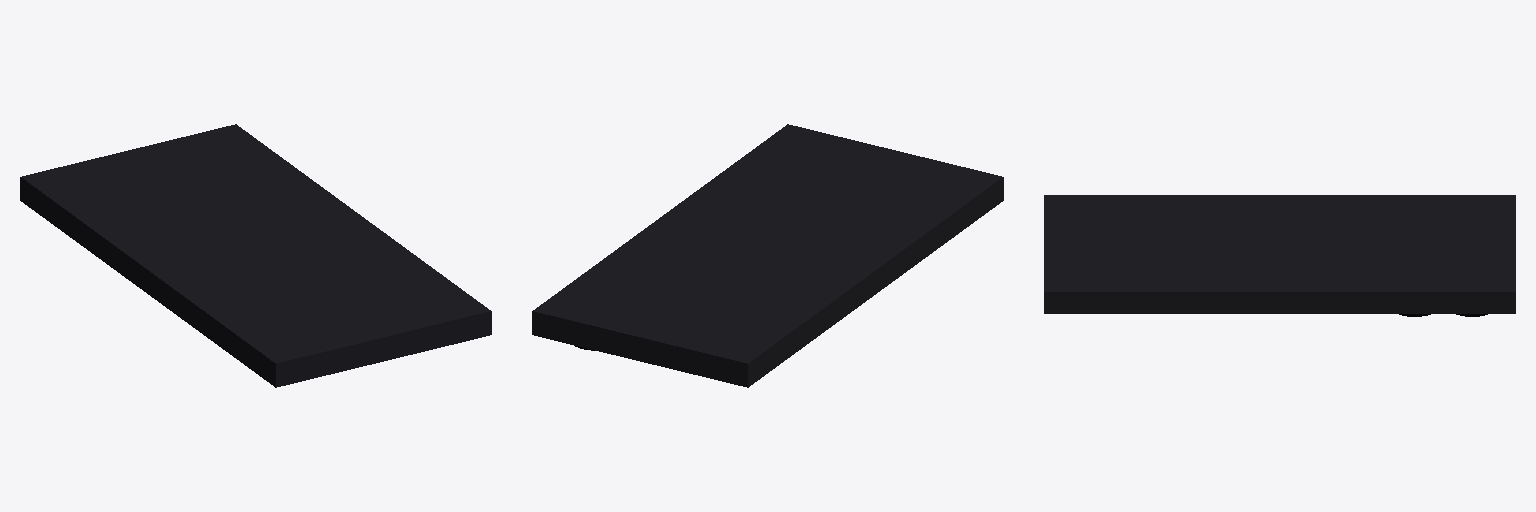
The robot description file, URDF, robot "iphone_13_pro":
<?xml version="1.0"?>
<!-- iPhone 13 Pro: generated by imuninn from Apple's dimensional drawings (iphone-frames dataset). Frames: device = display centre on the front glass (x right, y top, z out of the screen); cam_*_optical = OpenCV axes. Geometry and mass are approximate. -->
<robot name="iphone_13_pro">
  <material name="iphone_body">
    <color rgba="0.15 0.15 0.17 1" />
  </material>
  <material name="iphone_lens">
    <color rgba="0.05 0.05 0.06 1" />
  </material>
  <link name="device">
    <visual name="body">
      <origin xyz="0 0 -0.003825" rpy="0 0 0" />
      <geometry>
        <box size="0.07152 0.14671 0.00765" />
      </geometry>
      <material name="iphone_body" />
    </visual>
    <collision name="body">
      <origin xyz="0 0 -0.003825" rpy="0 0 0" />
      <geometry>
        <box size="0.07152 0.14671 0.00765" />
      </geometry>
    </collision>
    <visual name="lens_telephoto">
      <origin xyz="0.02233 0.059925 -0.00945" rpy="0 0 0" />
      <geometry>
        <cylinder radius="0.007765" length="0.0036" />
      </geometry>
      <material name="iphone_lens" />
    </visual>
    <visual name="lens_main">
      <origin xyz="0.02233 0.042005 -0.00945" rpy="0 0 0" />
      <geometry>
        <cylinder radius="0.007765" length="0.0036" />
      </geometry>
      <material name="iphone_lens" />
    </visual>
    <visual name="lens_ultra_wide">
      <origin xyz="0.00568 0.050965 -0.00945" rpy="0 0 0" />
      <geometry>
        <cylinder radius="0.0079" length="0.0036" />
      </geometry>
      <material name="iphone_lens" />
    </visual>
    <inertial>
      <origin xyz="0 0 -0.003825" rpy="0 0 0" />
      <mass value="0.185" />
      <inertia ixx="0.000332728" ixy="0" ixz="0" iyy="7.97602e-05" iyz="0" izz="0.000410684" />
    </inertial>
  </link>
  <link name="magsafe" />
  <joint name="device_to_magsafe" type="fixed">
    <parent link="device" />
    <child link="magsafe" />
    <origin xyz="0 5e-06 -0.00765" rpy="3.14159265 0 3.14159265" />
  </joint>
  <link name="cam_telephoto_optical" />
  <joint name="device_to_cam_telephoto_optical" type="fixed">
    <parent link="device" />
    <child link="cam_telephoto_optical" />
    <origin xyz="0.02233 0.059925 -0.01125" rpy="3.14159265 0 -1.57079633" />
  </joint>
  <link name="cam_main_optical" />
  <joint name="device_to_cam_main_optical" type="fixed">
    <parent link="device" />
    <child link="cam_main_optical" />
    <origin xyz="0.02233 0.042005 -0.01125" rpy="3.14159265 0 -1.57079633" />
  </joint>
  <link name="cam_ultra_wide_optical" />
  <joint name="device_to_cam_ultra_wide_optical" type="fixed">
    <parent link="device" />
    <child link="cam_ultra_wide_optical" />
    <origin xyz="0.00568 0.050965 -0.01125" rpy="3.14159265 0 -1.57079633" />
  </joint>
  <link name="cam_front_optical" />
  <joint name="device_to_cam_front_optical" type="fixed">
    <parent link="device" />
    <child link="cam_front_optical" />
    <origin xyz="0 0.067765 0" rpy="0 0 1.57079633" />
  </joint>
  <link name="imu" />
  <joint name="device_to_imu" type="fixed">
    <parent link="device" />
    <child link="imu" />
    <origin xyz="0 0 0" rpy="0 0 0" />
  </joint>
</robot>

--- What the picture shows (computed from the rendered views, not written in the file) ---
The picture shows the robot from 3 angles, left to right: view 1: azimuth 30°, elevation 25°; view 2: azimuth 150°, elevation 25°; view 3: azimuth 270°, elevation 25°; orthographic projection.
Robot: iphone_13_pro — 7 links, 6 joints (6 fixed); root link device; default pose: all joints at 0.
Links seen in each view (by area): view 1: device; view 2: device; view 3: device.
Boxes of the visible links, x1,y1,x2,y2 form: device: (20,124,491,387); device: (532,124,1003,387); device: (1044,195,1515,316).
Bounding box of the posed robot: 0.0715 × 0.1467 × 0.0112 m (x, y, z).
Geometry: primitives only (box / cylinder / sphere), no mesh files.
